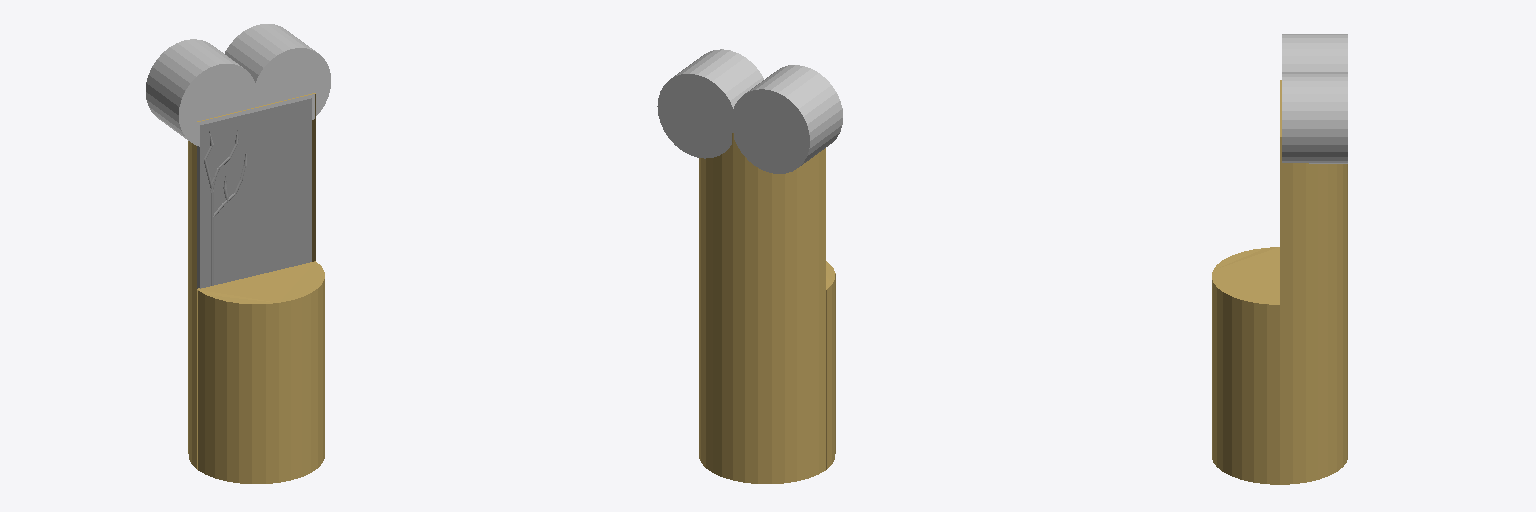
Rendered from spongi.obj.
3 renders of one model, left to right at view 1: azimuth 30°, elevation 25°; view 2: azimuth 150°, elevation 25°; view 3: azimuth 270°, elevation 25°, orthographic.
Parts seen in each view (by area): view 1: Cylinder.001_Cylinder.002, Cylinder, Cylinder.002_Cylinder.003, Cylinder.003_Cylinder.004; view 2: Cylinder.001_Cylinder.002, Cylinder.002_Cylinder.003, Cylinder.003_Cylinder.004; view 3: Cylinder.001_Cylinder.002, Cylinder.003_Cylinder.004, Cylinder.002_Cylinder.003.
Boxes of the visible parts, x1,y1,x2,y2 form: Cylinder.001_Cylinder.002: [188, 93, 324, 483]; Cylinder: [197, 98, 311, 288]; Cylinder.002_Cylinder.003: [146, 39, 254, 146]; Cylinder.003_Cylinder.004: [225, 24, 330, 119]; Cylinder.001_Cylinder.002: [699, 133, 835, 483]; Cylinder.002_Cylinder.003: [731, 65, 842, 173]; Cylinder.003_Cylinder.004: [657, 49, 763, 158]; Cylinder.001_Cylinder.002: [1212, 80, 1347, 484]; Cylinder.003_Cylinder.004: [1282, 72, 1347, 163]; Cylinder.002_Cylinder.003: [1282, 34, 1347, 71].
Size of the model in its own units: 1.06 by 2.65 by 0.8241.